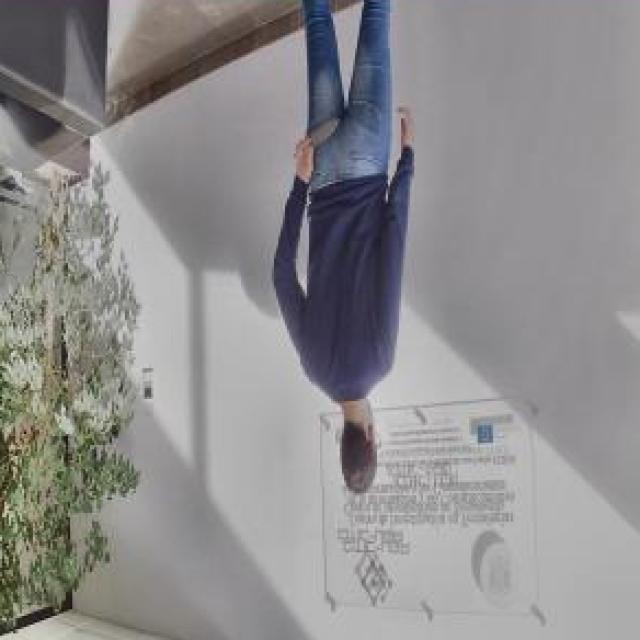knife: (289, 112, 341, 166)
